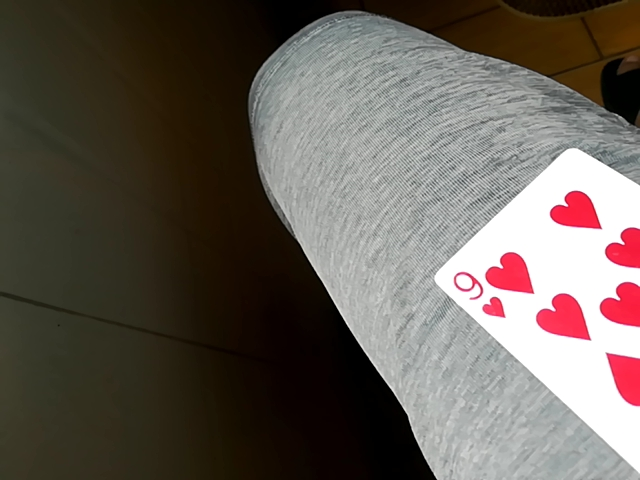hx 9: (428, 154, 637, 476)
